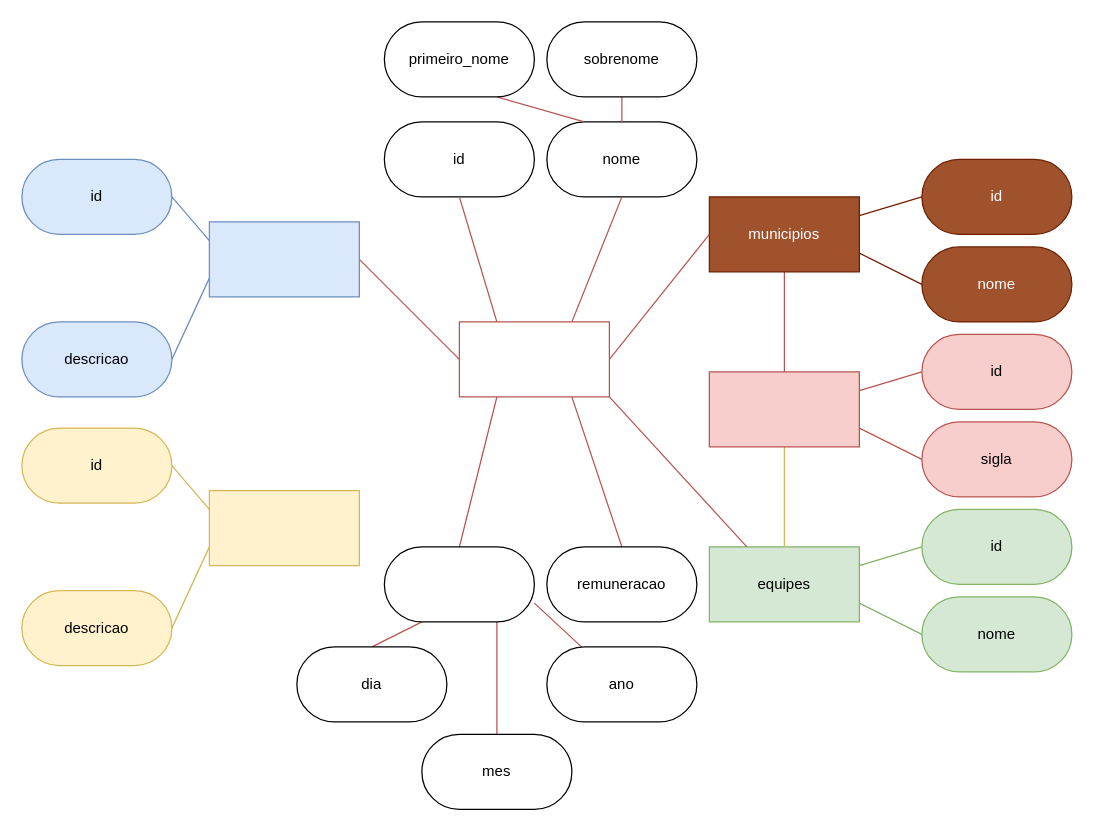
The diagram is 1094 pixels wide and 831 high, and some of its shapes have lost their labels. The shapes that lost their labels are listed below. From the top down, each one's box as (x1, y1, x2, y2) in pixels, then its label:
(208, 221, 359, 297): posicoes
(458, 321, 609, 397): atletas
(708, 371, 859, 447): ufs
(208, 489, 359, 566): pes
(383, 546, 534, 622): nascimento
